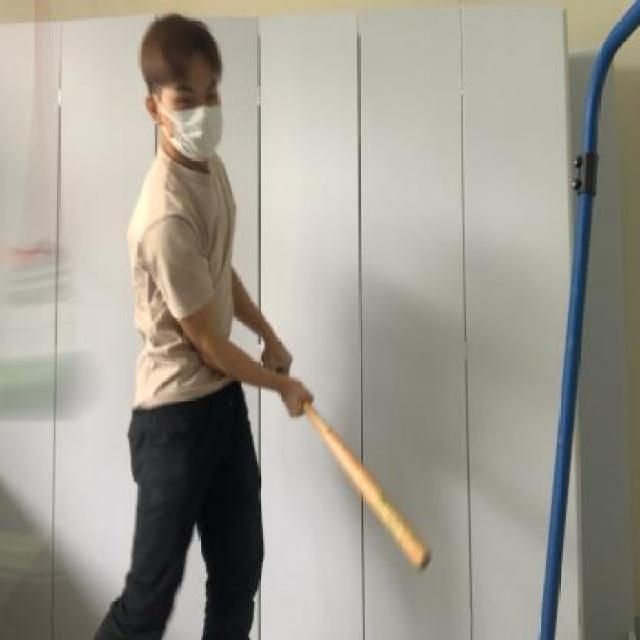baseball: (0, 334, 94, 429)
